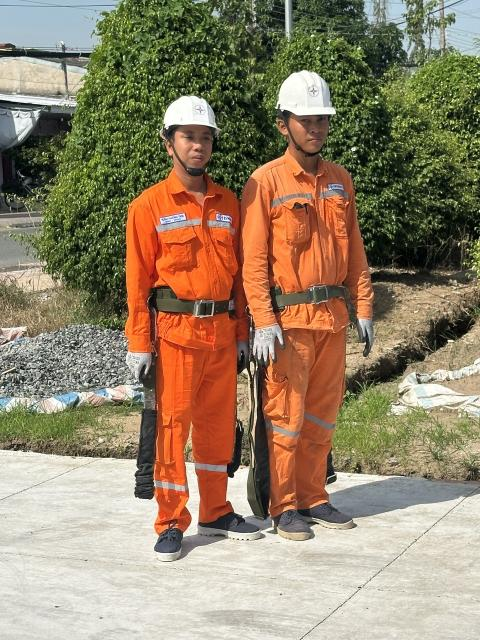gloves: (242, 312, 292, 370), (110, 338, 160, 382), (346, 310, 382, 355), (226, 335, 254, 378)
harness: (264, 273, 360, 315), (132, 283, 248, 315)
shoes: (265, 66, 351, 126), (143, 93, 235, 138), (190, 501, 263, 552), (285, 493, 368, 537), (268, 493, 316, 552), (145, 513, 195, 565)
